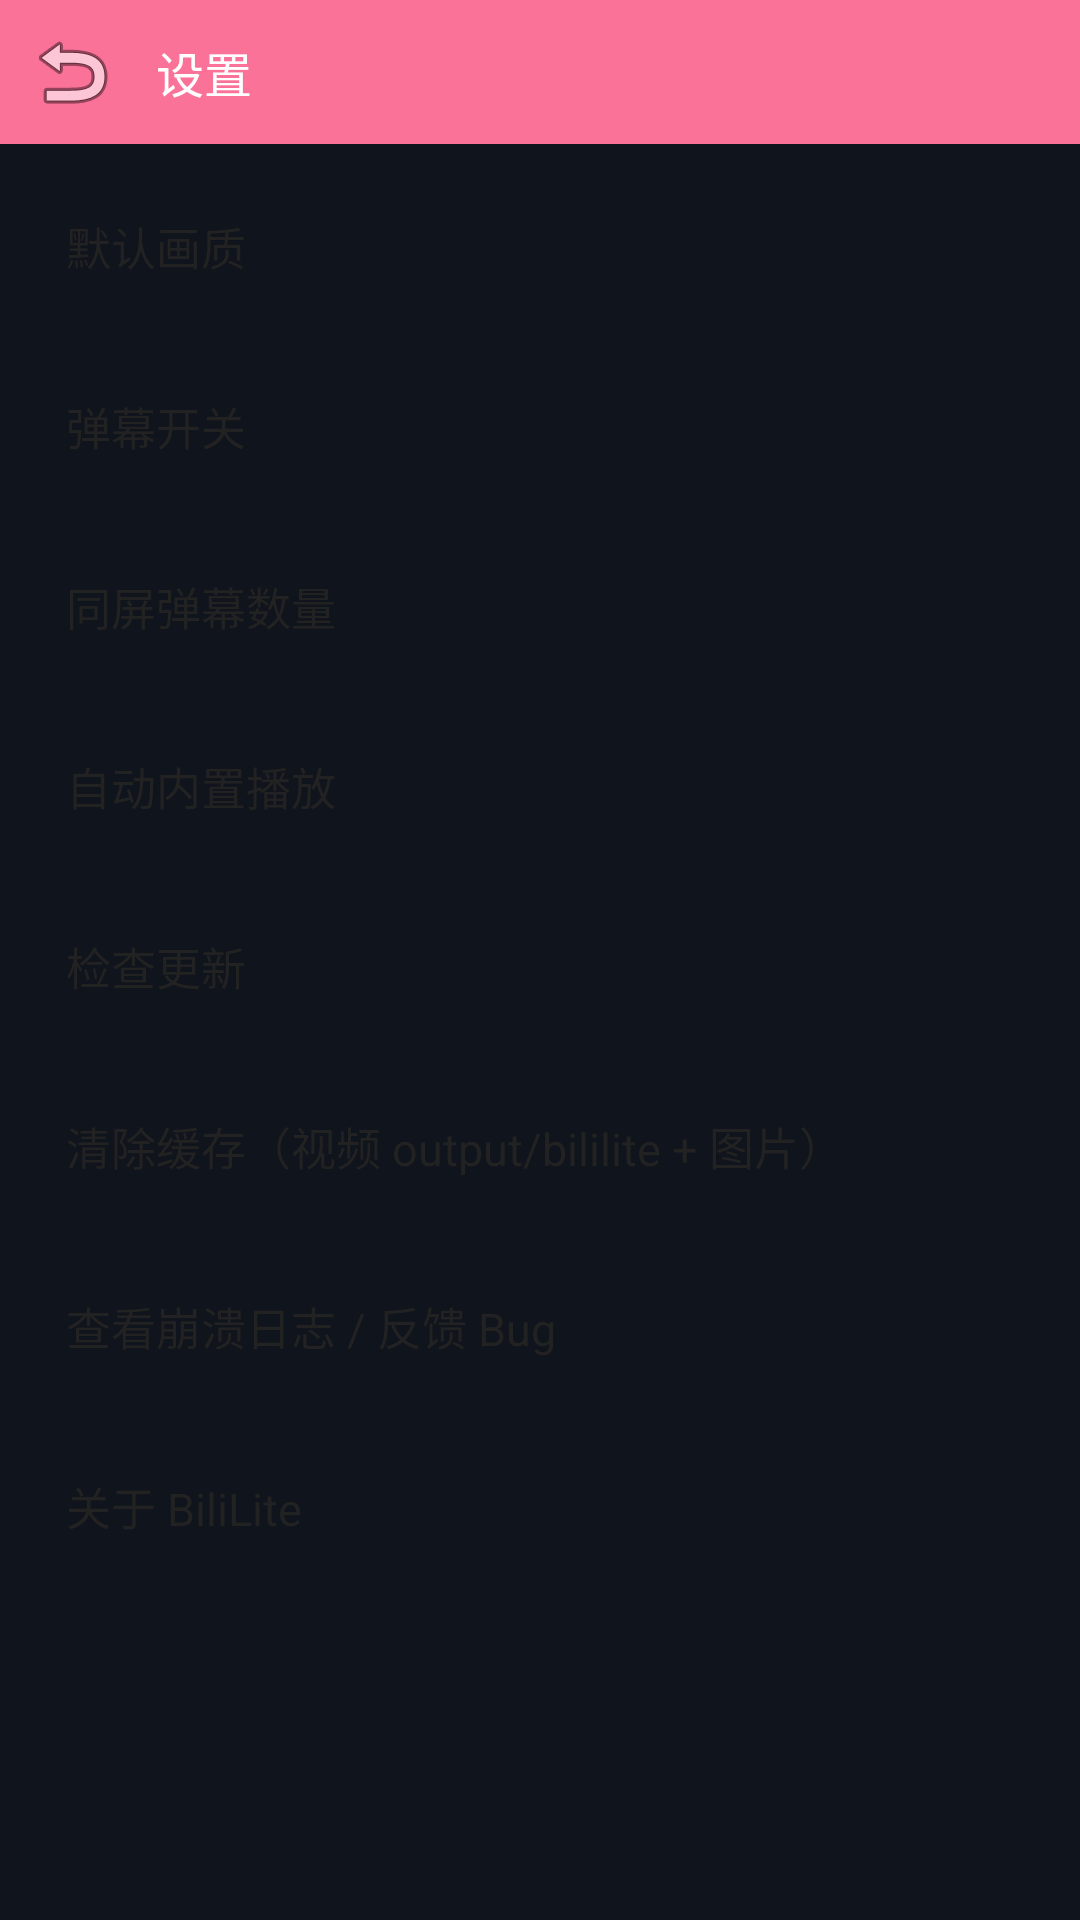

Point at icon controls on the screen. Image size 1080px×1920px, points as (x=x, y=y).
revert: (x=73, y=72)
